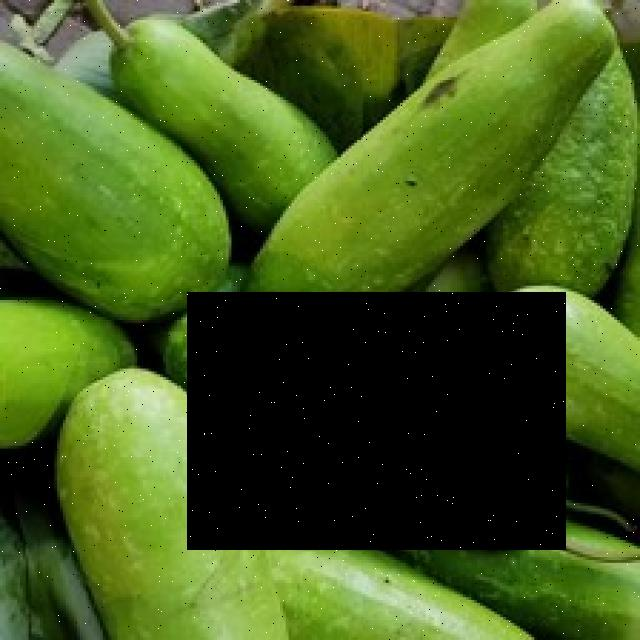Bottle_Gourd: (188, 293, 566, 551)
